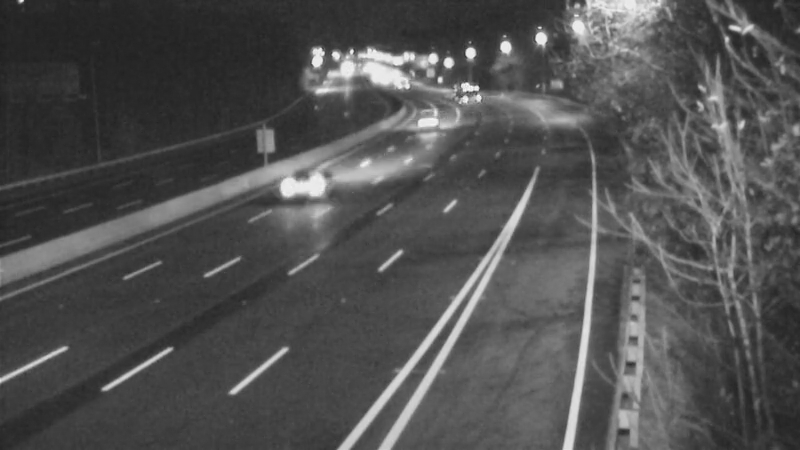vehicle: (270, 148, 350, 228), (377, 54, 427, 104), (443, 66, 493, 116), (398, 96, 448, 146)
